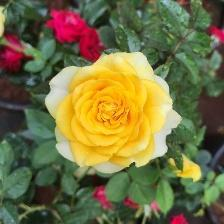rose: (48, 52, 175, 172)
